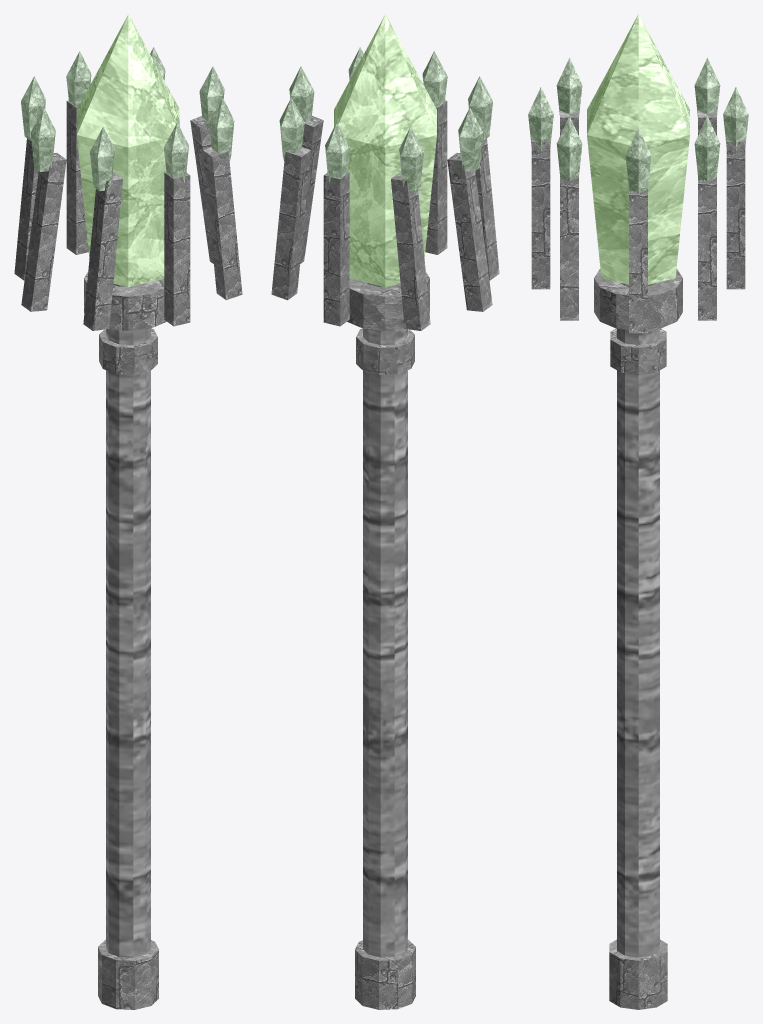
The model's file is staff-venom-advanced.glb.
3 renders of one model, left to right at view 1: azimuth 30°, elevation 25°; view 2: azimuth 150°, elevation 25°; view 3: azimuth 270°, elevation 25°, orthographic.
Parts seen in each view (by area): view 1: shaft, advanced-core, thorn-4, thorn-2, thorn-3, thorn-1, pommel, crown-band, thorn-6, neck-band, thorn-5, thorn-0 (+7 smaller); view 2: shaft, advanced-core, thorn-4, thorn-6, thorn-5, thorn-7, pommel, crown-band, thorn-2, neck-band, thorn-3, thorn-0 (+7 smaller); view 3: shaft, advanced-core, pommel, crown-band, thorn-2, thorn-6, thorn-0, thorn-1, thorn-7, neck-band, thorn-tip-0, thorn-tip-1 (+5 smaller).
Part boxes in pixels (box(x1,y1,x2,y2)): shaft: box(106, 283, 150, 957); advanced-core: box(77, 14, 179, 287); thorn-4: box(21, 153, 66, 311); thorn-2: box(164, 172, 190, 326); thorn-3: box(83, 172, 122, 330); thorn-1: box(203, 147, 242, 300); pommel: box(98, 939, 158, 1009); crown-band: box(84, 272, 166, 330); thorn-6: box(66, 100, 88, 254); neck-band: box(99, 328, 157, 374); thorn-5: box(14, 138, 38, 280); thorn-0: box(190, 116, 213, 263); shaft: box(363, 283, 407, 957); advanced-core: box(334, 14, 436, 287); thorn-4: box(447, 153, 492, 311); thorn-6: box(323, 172, 349, 326); thorn-5: box(391, 172, 430, 330); thorn-7: box(271, 147, 310, 300); pommel: box(355, 939, 415, 1009); crown-band: box(347, 272, 429, 330); thorn-2: box(425, 100, 447, 254); neck-band: box(356, 328, 414, 374); thorn-3: box(475, 138, 499, 280); thorn-0: box(300, 116, 323, 263); shaft: box(617, 283, 659, 957); advanced-core: box(587, 14, 689, 284); pommel: box(609, 939, 667, 1009); crown-band: box(594, 269, 682, 329); thorn-2: box(531, 140, 550, 289); thorn-6: box(726, 140, 745, 289); thorn-0: box(629, 190, 647, 333); thorn-1: box(560, 177, 578, 320); thorn-7: box(698, 177, 716, 320); neck-band: box(610, 328, 666, 374); thorn-tip-0: box(625, 128, 651, 192); thorn-tip-1: box(556, 116, 582, 180).
Bounding box in the file's own units: 0.4364 × 2 × 0.4076.
4 materials, 4 textured.
